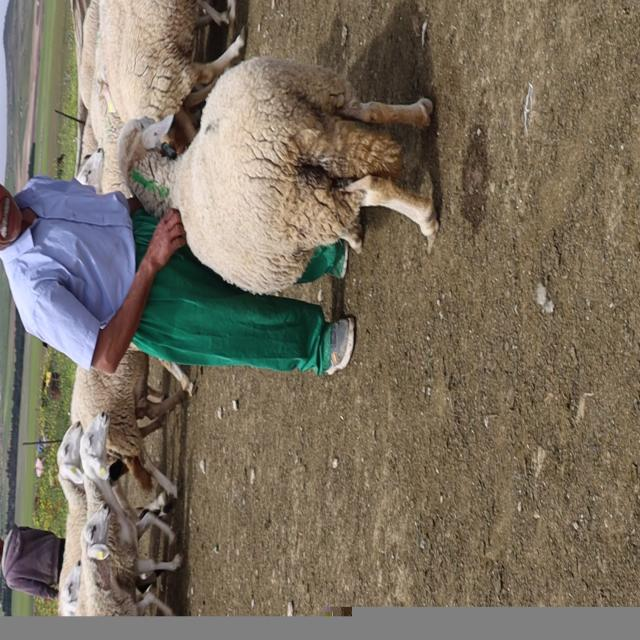Score_4: (117, 57, 438, 295)
